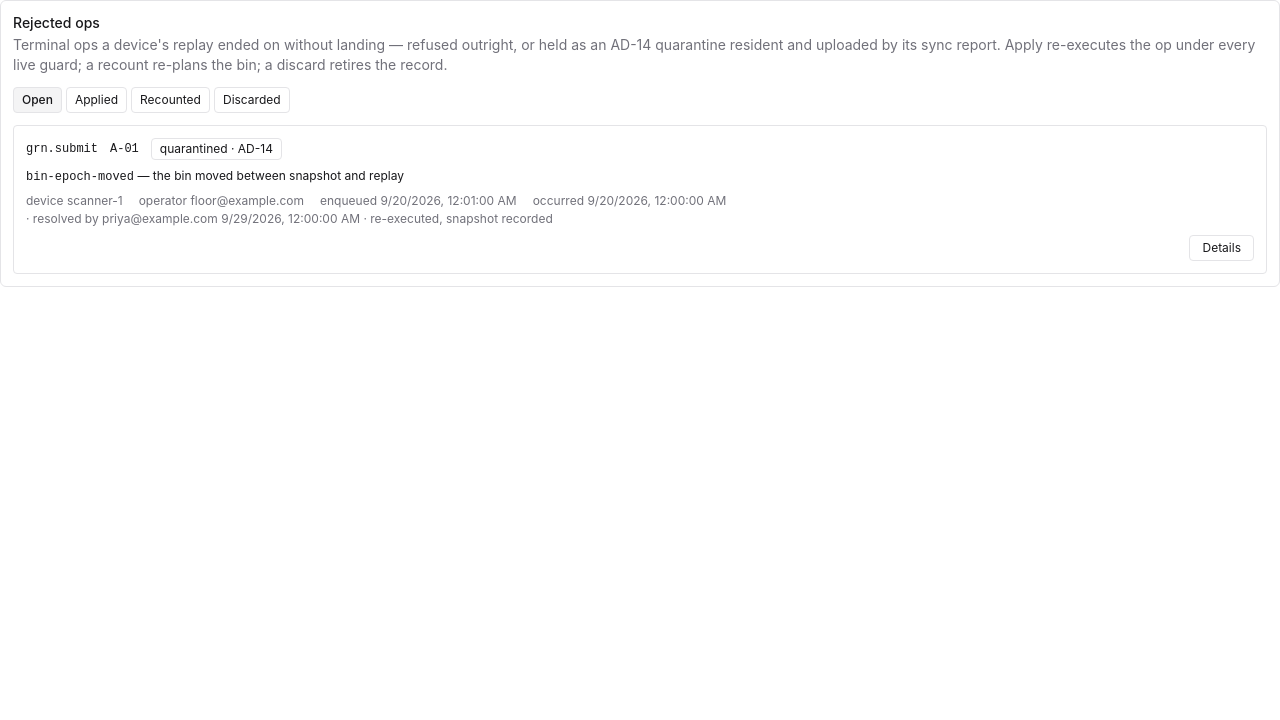
Test case: RejectedOpsQueue: the card and the read-only render (story 5-6) › a settled row keeps its Details affordance and no decision arms (review Entry O)
This screenshot has width=1280, height=720.
Click the button "Details": (1222, 248) [1190,235,1254,261]
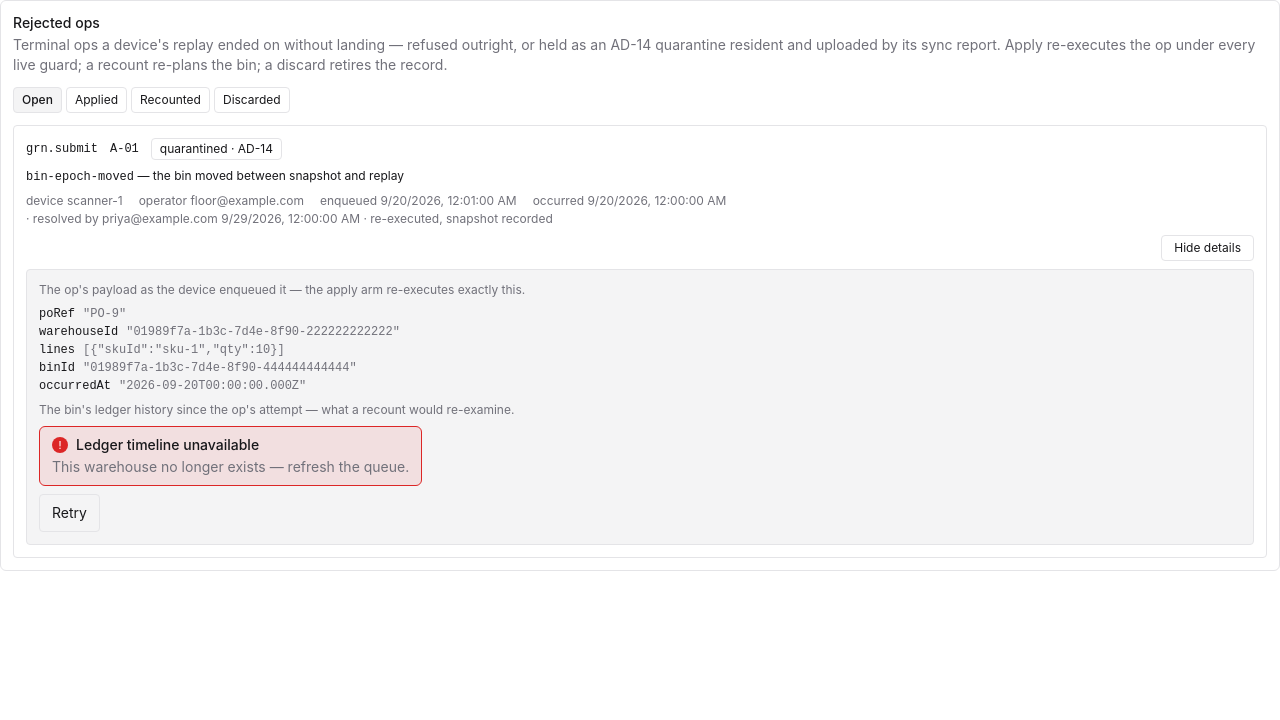
Now the element that starts with "grn.submit" shows "The op's payload as the device enqueued it", box [39,282,525,297]
